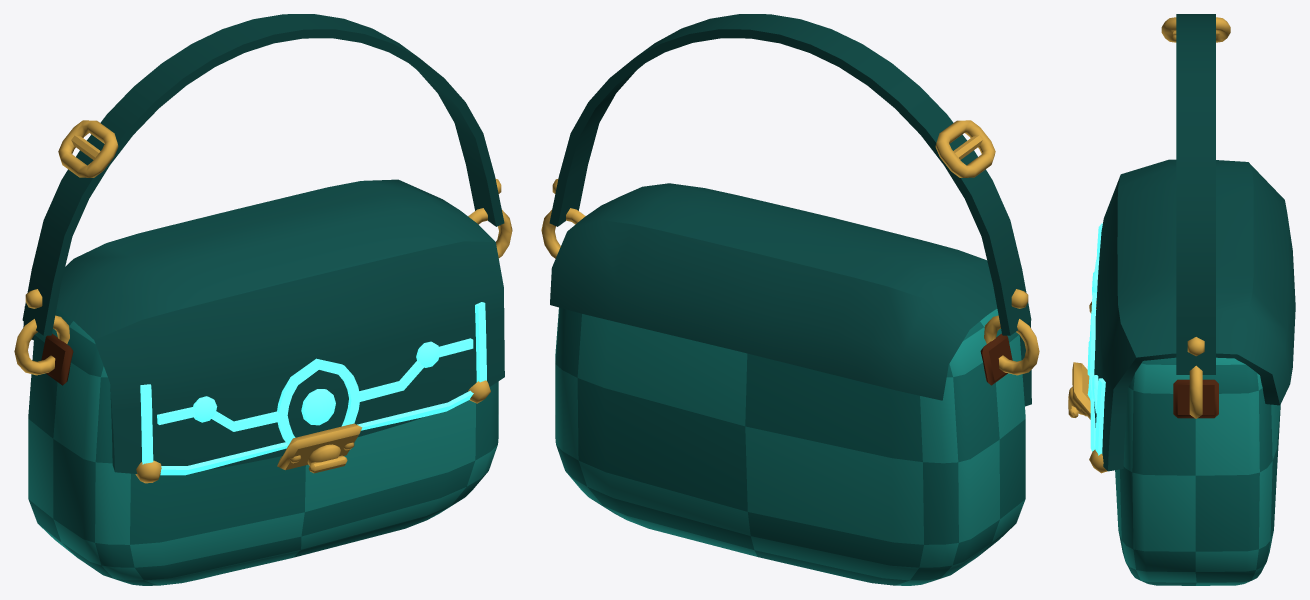
File: item_pouch_ley.glb
3 views of the same model, side by side, from view 1: azimuth 30°, elevation 25°; view 2: azimuth 150°, elevation 25°; view 3: azimuth 270°, elevation 25° (orthographic). The views are drawn at different scales.
Parts seen in each view (by area): view 1: PouchLey; view 2: PouchLey; view 3: PouchLey.
Boxes of the visible parts, x1,y1,x2,y2 form: PouchLey: (14, 14, 512, 585); PouchLey: (541, 14, 1039, 585); PouchLey: (1068, 14, 1295, 585).
Size of the model in its own units: 0.35 by 0.3467 by 0.1457.
